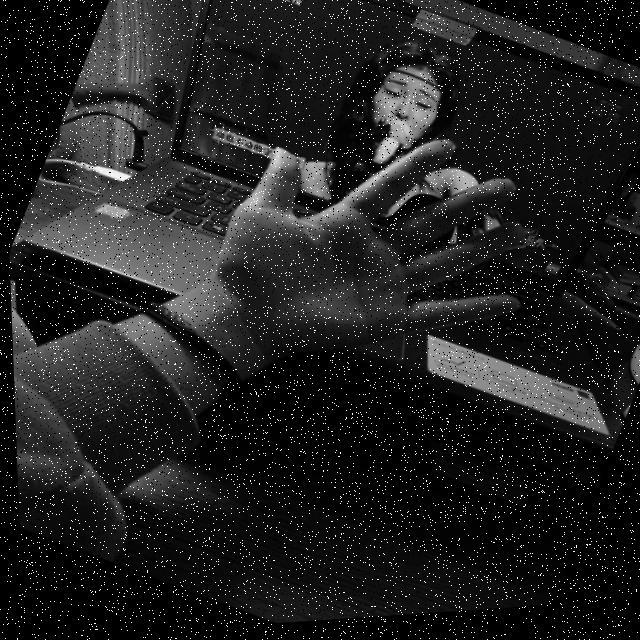no-gloves: (145, 58, 576, 494)
